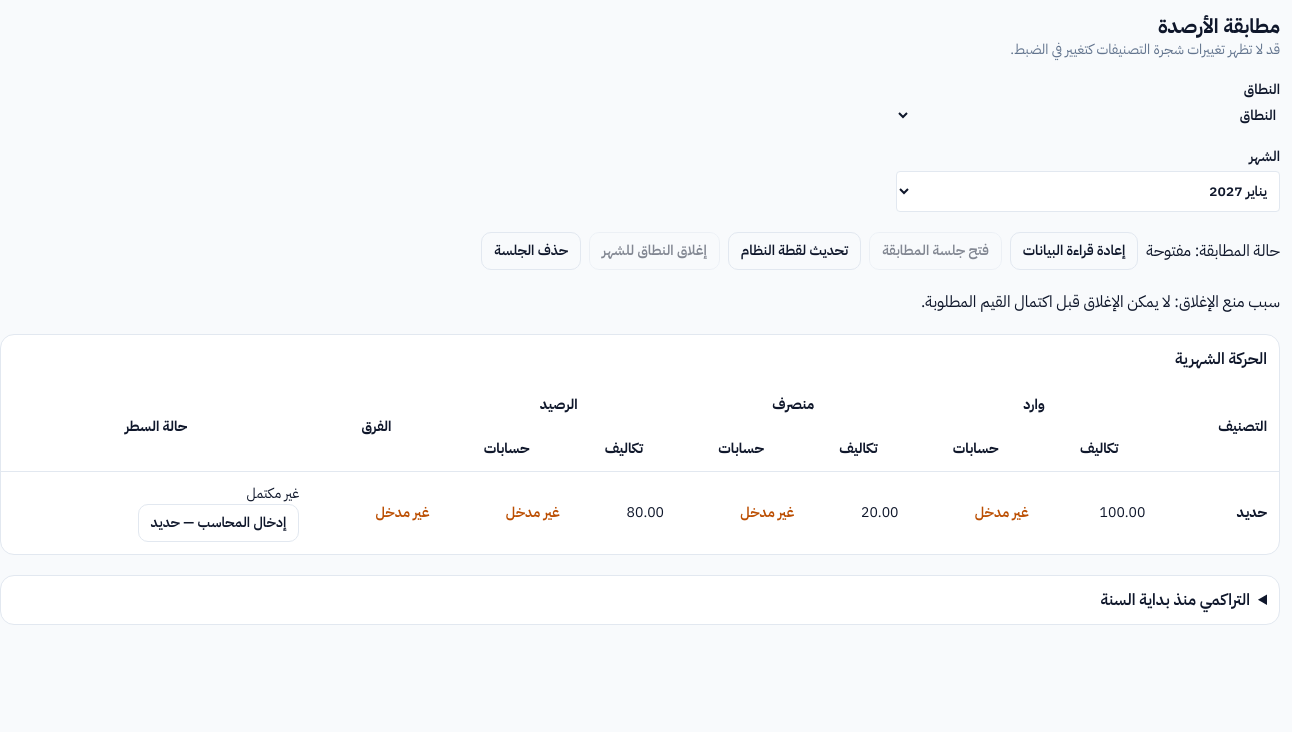
safe session deletion › deletes only after confirmation and verifies the new state
Click the button "حذف الجلسة": click(531, 251) [481,232,581,270]
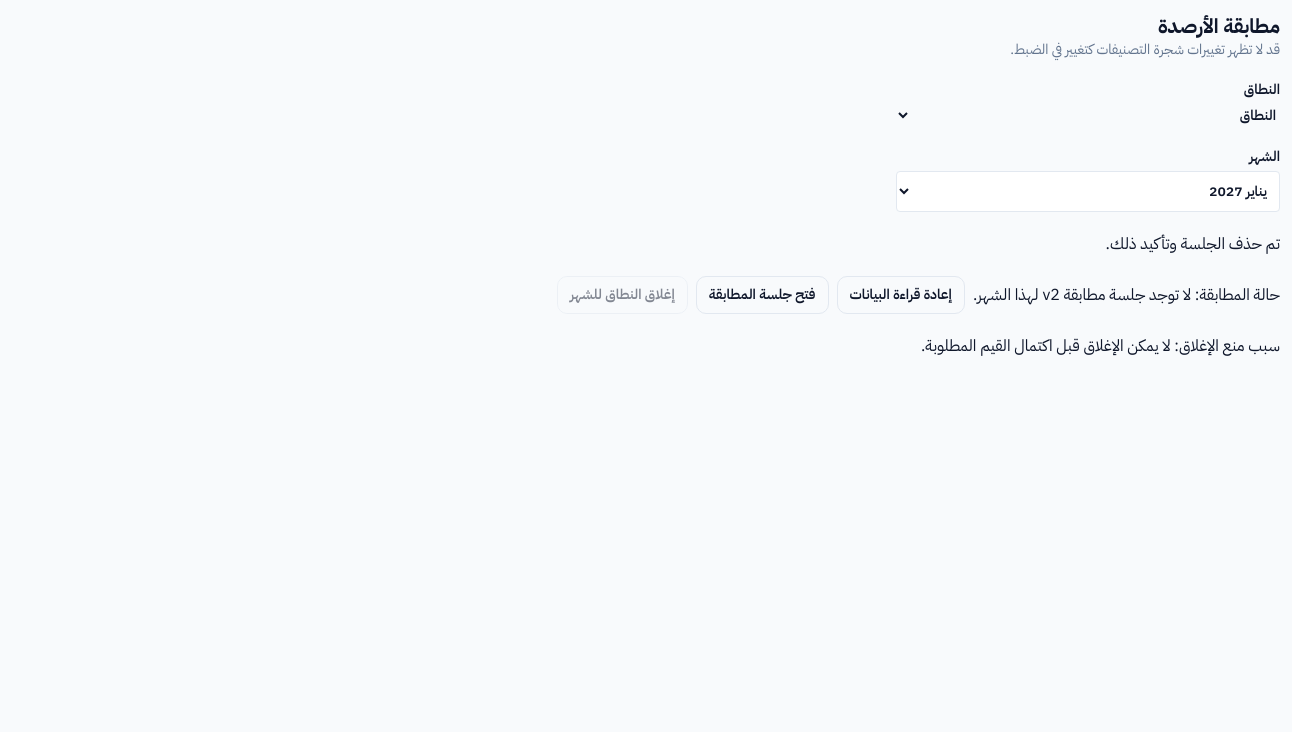
expect the text "تم حذف الجلسة وتأكيد ذلك." is shown: met, box [1106,232,1280,256]
